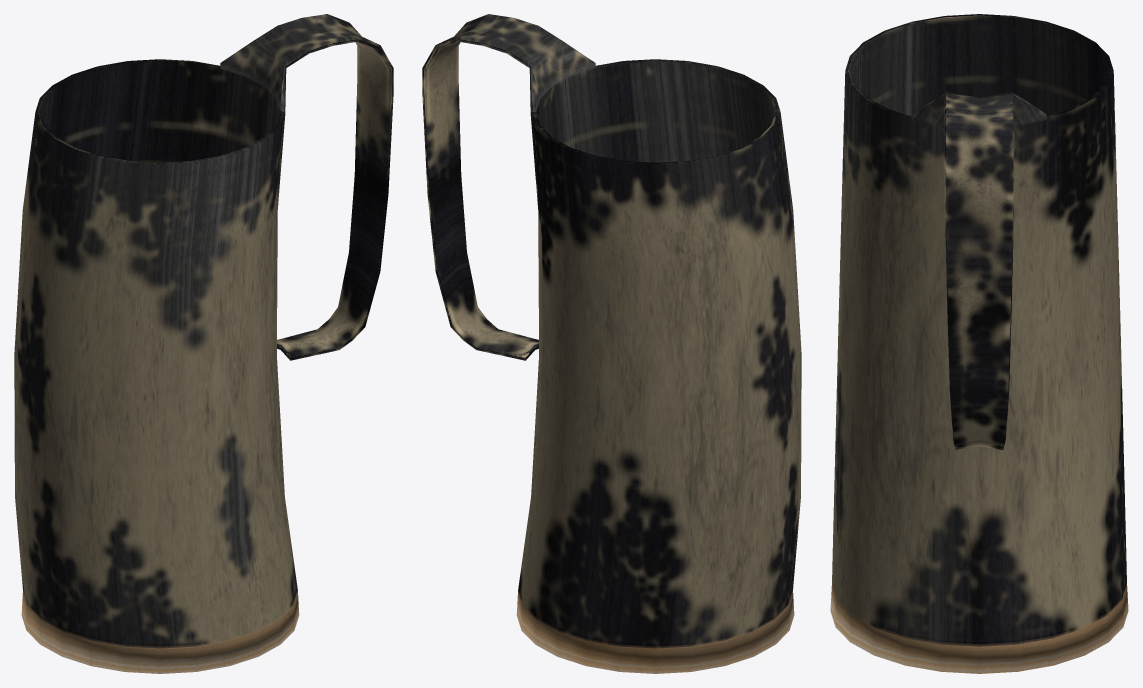
3 views of the same model, side by side, from view 1: azimuth 30°, elevation 25°; view 2: azimuth 150°, elevation 25°; view 3: azimuth 270°, elevation 25° (orthographic). The views are drawn at different scales.
Parts seen in each view (by area): view 1: Low_Poly_geo_Tankard; view 2: Low_Poly_geo_Tankard; view 3: Low_Poly_geo_Tankard.
Part boxes in pixels (<box>): Low_Poly_geo_Tankard: <box>14,14,393,673</box>; Low_Poly_geo_Tankard: <box>422,14,801,673</box>; Low_Poly_geo_Tankard: <box>830,14,1128,673</box>.
Size of the model in its own units: 1.32 by 2 by 0.9187.
Materials: 1 (1 with a texture image).
